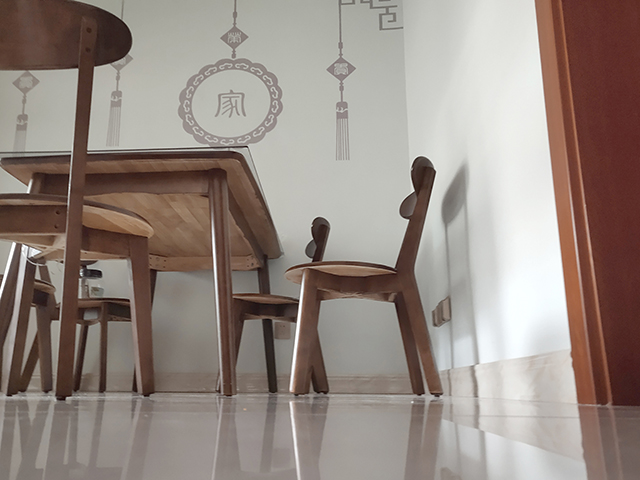stool: (1, 1, 156, 403), (285, 155, 445, 398), (212, 215, 333, 399), (1, 245, 147, 395)
table: (1, 144, 285, 399)
